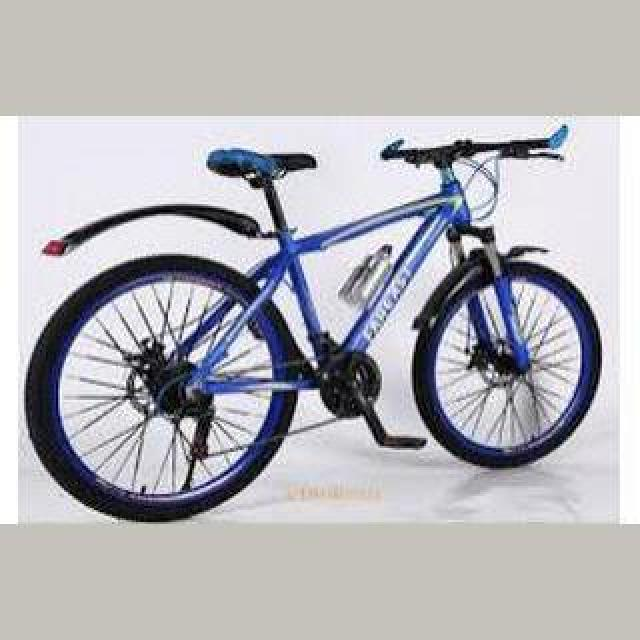Person: (25, 130, 603, 524)
